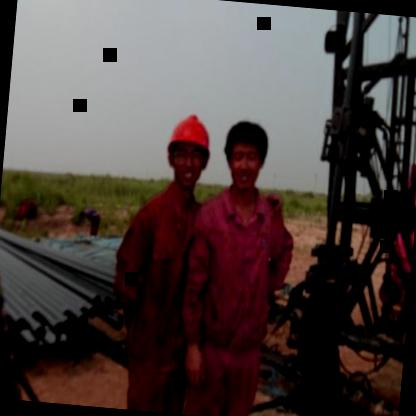head: (218, 115, 278, 194)
helmet: (158, 104, 218, 196)
